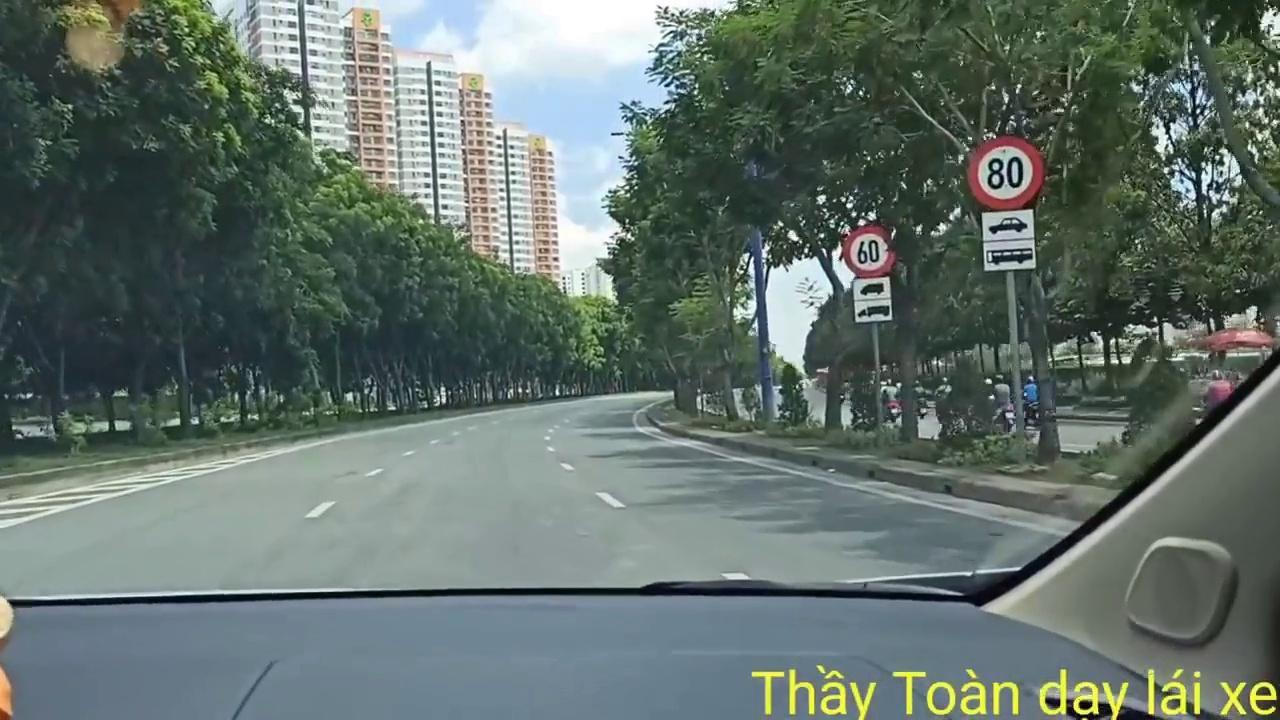Biển phụ: (980, 210, 1037, 269), (851, 277, 894, 321)
GIơi hạn tốc độ 60Km/h: (841, 222, 896, 279)
Giới hạn tốc độ 80Km/h: (966, 128, 1046, 212)
